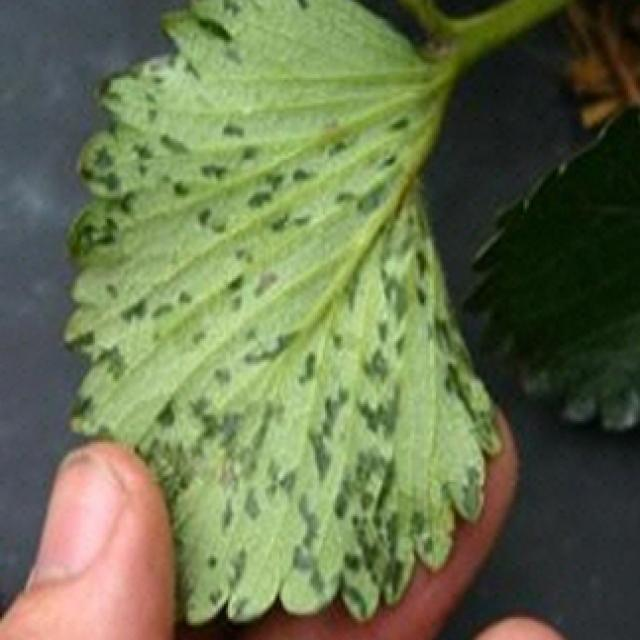Angular Leafspot: (58, 0, 506, 628)
